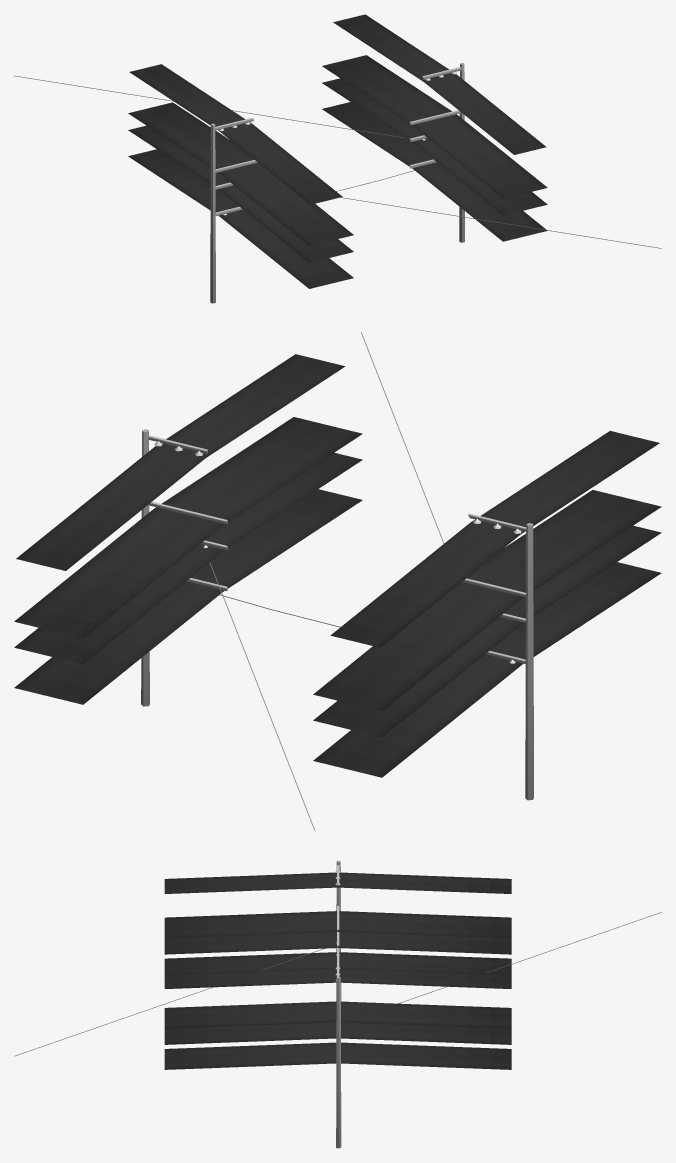
The model's file is K_RO_KASENCHU.glb.
3 views of the same model, one above another, from view 1: azimuth 30°, elevation 25°; view 2: azimuth 150°, elevation 25°; view 3: azimuth 270°, elevation 25° (orthographic). The views are drawn at different scales.
Parts seen in each view (by area): view 1: FRAME_ROOT; view 2: FRAME_ROOT; view 3: FRAME_ROOT.
Boxes of the visible parts, bbox=[...] form: FRAME_ROOT: bbox=[14, 14, 661, 303]; FRAME_ROOT: bbox=[14, 332, 661, 830]; FRAME_ROOT: bbox=[14, 860, 661, 1148].
Size of the model in its own units: 59.07 by 32.42 by 112.
2 materials, 2 textured.
